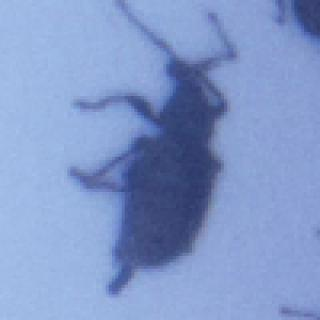bvw: (65, 0, 241, 302)
